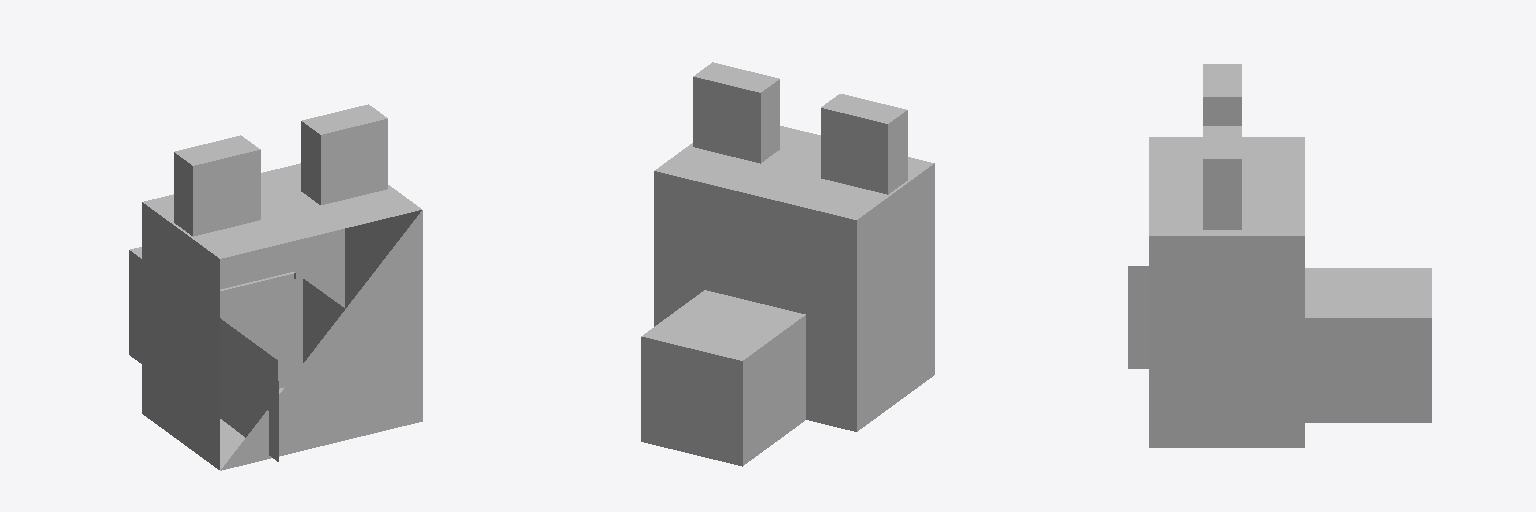
Rendered from pb_head.obj.
3 views of the same model, side by side, from view 1: azimuth 30°, elevation 25°; view 2: azimuth 150°, elevation 25°; view 3: azimuth 270°, elevation 25° (orthographic).
Visible parts, largest first — view 1: Lobo.001; view 2: Lobo.001; view 3: Lobo.001.
Part boxes in pixels (left/top/right/bottom): Lobo.001: left=129, top=104, right=422, bottom=470; Lobo.001: left=641, top=62, right=934, bottom=466; Lobo.001: left=1128, top=64, right=1431, bottom=447.
Size of the model in its own units: 3.75 by 5.05 by 4.88.